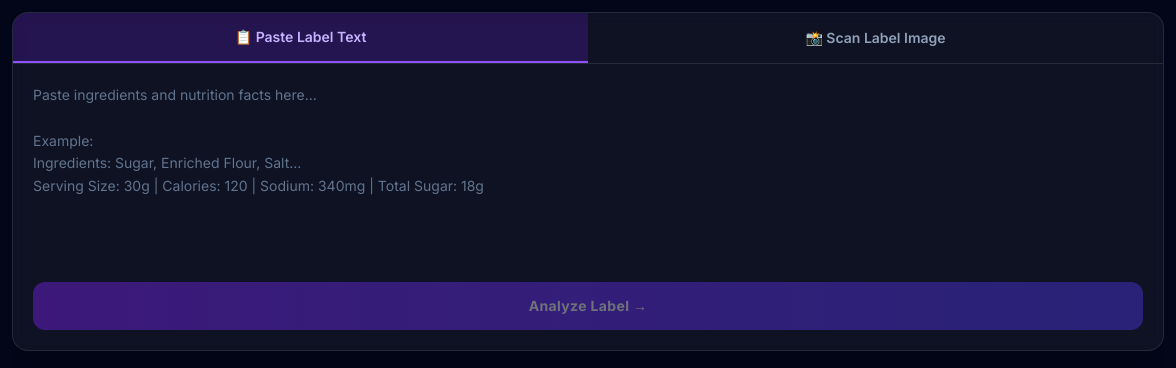
Scenario: LabelInput › enables analyze button when text is entered
Type "Ingredients: Sugar" into the text box with placeholder "Paste ingredients" at (588, 172), box [33,84,1143,260]
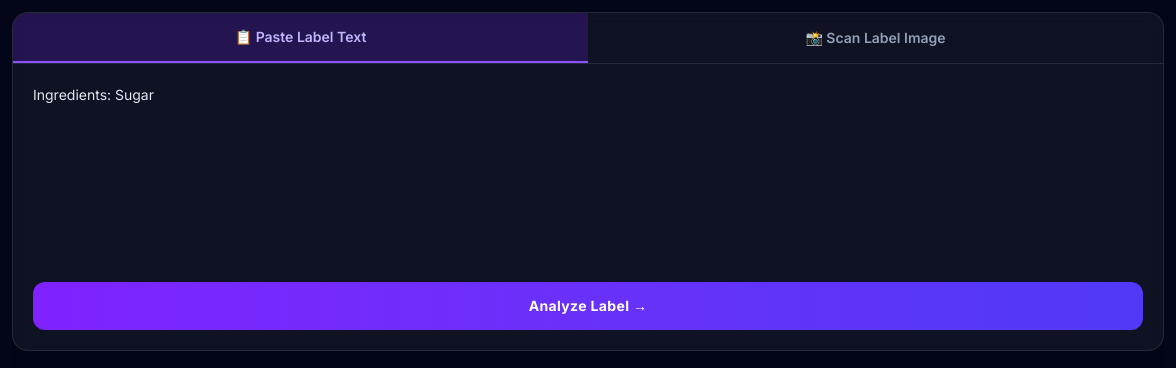
Check: the button "Analyze Label →" is enabled, box [33,282,1143,330]
